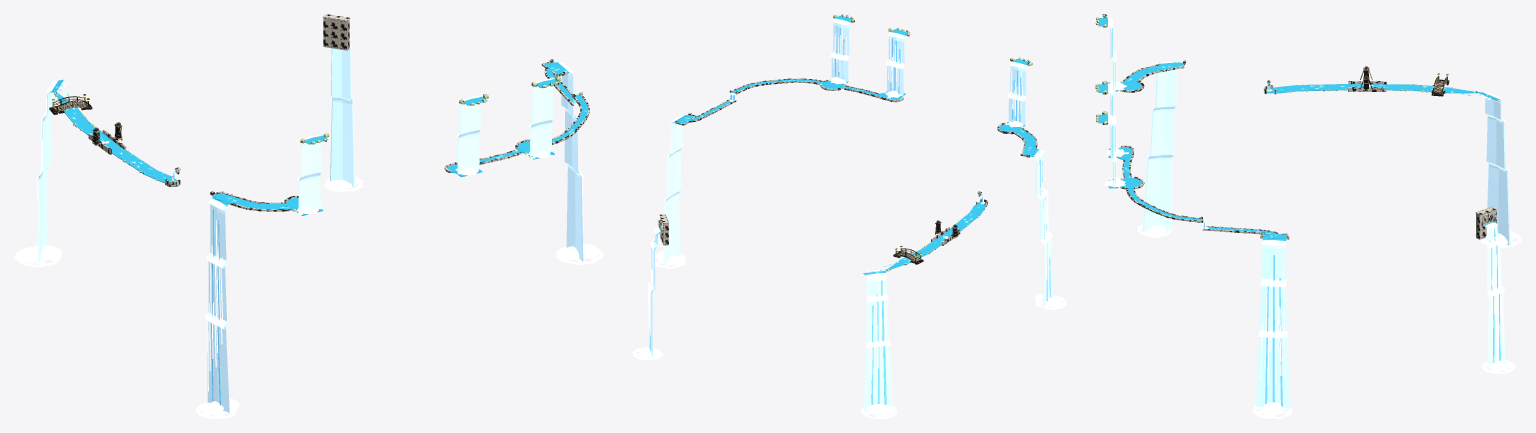
Rendered from ILHA1_06_WATER_203d27.fbx.
3 renders of one model, left to right at view 1: azimuth 30°, elevation 25°; view 2: azimuth 150°, elevation 25°; view 3: azimuth 270°, elevation 25°, orthographic. The views are drawn at different scales.
Visible parts, largest first — view 1: WATER_SeaFalls__Water_WtrSheet, WATER_BackFalls__Water_WtrSheet, WATER_SeaFalls__Foam_g15_11, WATER_Canal_East__Water, WATER_SeaFalls__Foam_g15_13, WATER_SeaFalls__Stone_Wall_Dark, WATER_BackFalls__Water, WATER_SeaFalls__Foam_g17_12, WATER_SeaFalls__Water_WtrFall, WATER_Canal_West__Water, WATER_Canal_East__Stone_Wall_Light; view 2: WATER_SeaFalls__Water_WtrSheet, WATER_BackFalls__Water_WtrSheet, WATER_SeaFalls__Foam_g15_13, WATER_Canal_East__Water, WATER_SeaFalls__Water_WtrFall, WATER_SeaFalls__Foam_g15_11, WATER_BackFalls__Foam_g16_11, WATER_BackFalls__Water_WtrFall, WATER_SeaFalls__Foam_g16_13, WATER_BackFalls__Water, WATER_SeaFalls__Foam_g17_12, WATER_BackFalls__Foam_g15_11 (+2 smaller); view 3: WATER_SeaFalls__Water_WtrSheet, WATER_SeaFalls__Foam_g17_12, WATER_Canal_East__Water, WATER_SeaFalls__Water_WtrFall, WATER_SeaFalls__Foam_g16_13, WATER_BackFalls__Water, WATER_Canal_West__Water, WATER_BackFalls__Foam_g16_11, WATER_Canal_West__Stone_Wall_Light, WATER_Canal_East__Stone_Wall_Light, WATER_BackFalls__Water_WtrSheet, WATER_SeaFalls__Stone_Wall_Dark.
Boxes of the visible parts, x1,y1,x2,y2 form: WATER_SeaFalls__Water_WtrSheet: [37, 46, 583, 413]; WATER_BackFalls__Water_WtrSheet: [298, 79, 553, 212]; WATER_SeaFalls__Foam_g15_11: [195, 198, 239, 418]; WATER_Canal_East__Water: [54, 91, 290, 209]; WATER_SeaFalls__Foam_g15_13: [14, 80, 62, 267]; WATER_SeaFalls__Stone_Wall_Dark: [322, 14, 350, 50]; WATER_BackFalls__Water: [285, 79, 559, 215]; WATER_SeaFalls__Foam_g17_12: [556, 62, 603, 265]; WATER_SeaFalls__Water_WtrFall: [38, 95, 579, 405]; WATER_Canal_West__Water: [544, 62, 588, 142]; WATER_Canal_East__Stone_Wall_Light: [88, 130, 291, 211]; WATER_SeaFalls__Water_WtrSheet: [649, 117, 1052, 411]; WATER_BackFalls__Water_WtrSheet: [831, 19, 1026, 125]; WATER_SeaFalls__Foam_g15_13: [861, 273, 897, 418]; WATER_Canal_East__Water: [885, 129, 1036, 271]; WATER_SeaFalls__Water_WtrFall: [649, 154, 1050, 404]; WATER_SeaFalls__Foam_g15_11: [1034, 149, 1066, 309]; WATER_BackFalls__Foam_g16_11: [830, 18, 905, 98]; WATER_BackFalls__Water_WtrFall: [835, 25, 1021, 122]; WATER_SeaFalls__Foam_g16_13: [632, 227, 663, 360]; WATER_BackFalls__Water: [822, 15, 1030, 133]; WATER_SeaFalls__Foam_g17_12: [649, 114, 686, 268]; WATER_BackFalls__Foam_g15_11: [1005, 61, 1027, 127]; WATER_SeaFalls__Water_WtrSheet: [1142, 62, 1510, 408]; WATER_SeaFalls__Foam_g17_12: [1251, 240, 1292, 418]; WATER_Canal_East__Water: [1124, 62, 1480, 93]; WATER_SeaFalls__Water_WtrFall: [1265, 228, 1500, 406]; WATER_SeaFalls__Foam_g16_13: [1481, 222, 1516, 373]; WATER_BackFalls__Water: [1098, 18, 1142, 189]; WATER_Canal_West__Water: [1127, 188, 1286, 238]; WATER_BackFalls__Foam_g16_11: [1104, 84, 1128, 187]; WATER_Canal_West__Stone_Wall_Light: [1126, 188, 1288, 235]; WATER_Canal_East__Stone_Wall_Light: [1123, 63, 1386, 92]; WATER_BackFalls__Water_WtrSheet: [1109, 20, 1114, 187]; WATER_SeaFalls__Stone_Wall_Dark: [1475, 206, 1497, 239].
Size of the model in its own units: 325 by 187 by 298.
Materials: 9 (3 with a texture image).
